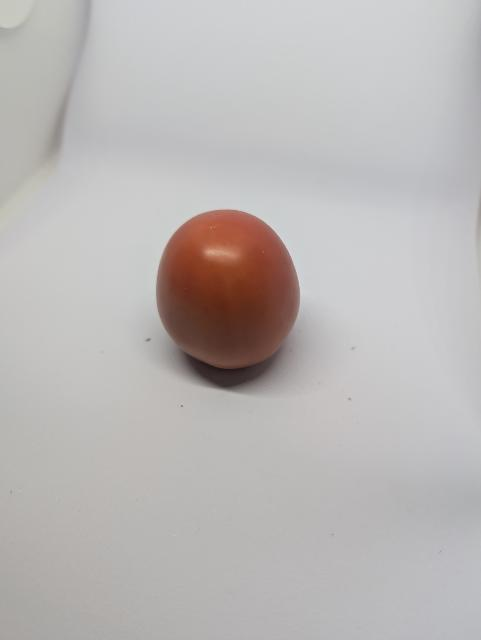red: (147, 200, 317, 388)
